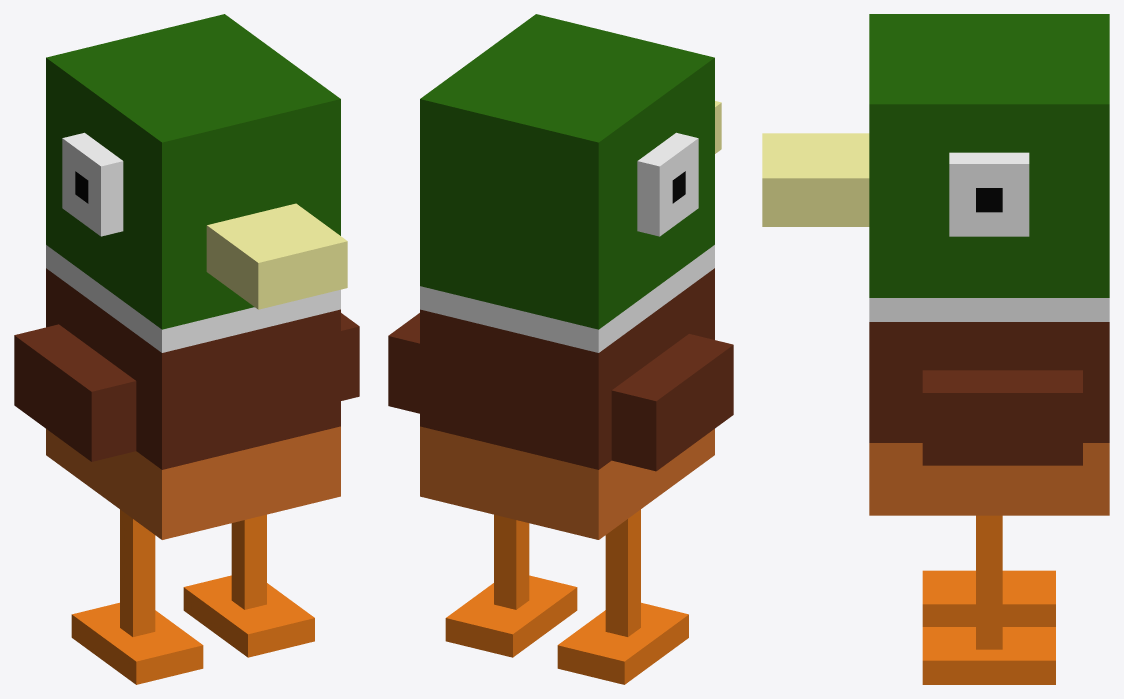
File: pato.obj
The picture shows the model from 3 angles, left to right: view 1: azimuth 30°, elevation 25°; view 2: azimuth 150°, elevation 25°; view 3: azimuth 270°, elevation 25°; orthographic projection. The views are drawn at different scales.
Bounding box in the file's own units: 1.2 × 2.4 × 1.3.
1 material, 1 textured.
